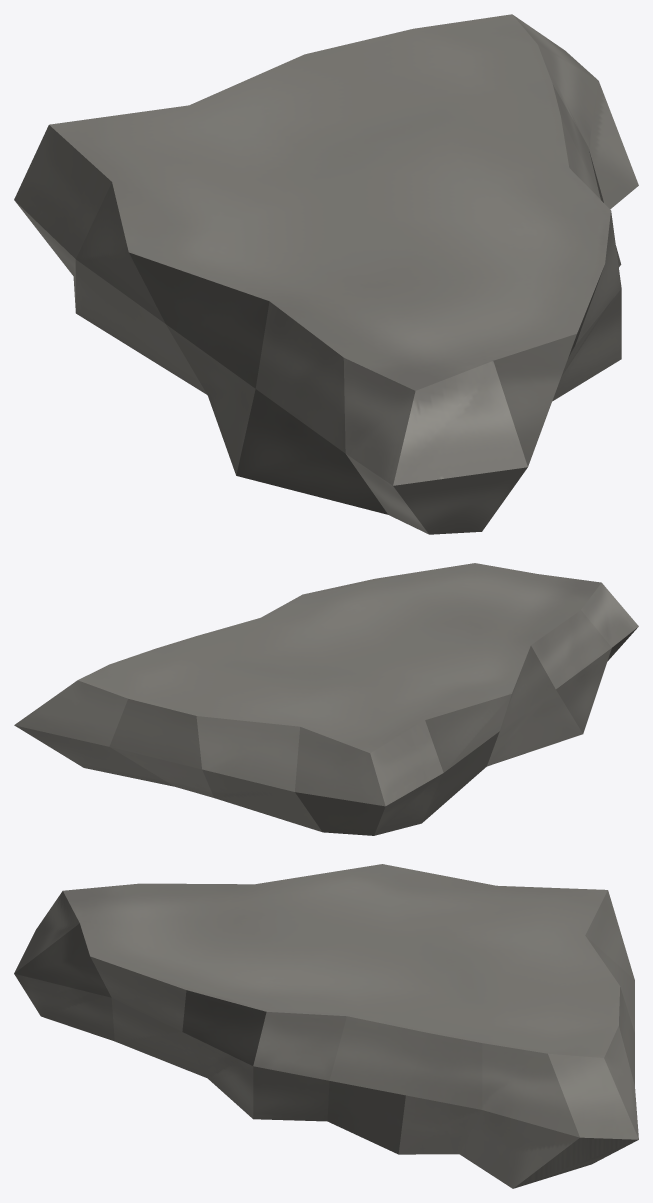
Rendered from floating_path_3.fbx.
3 renders of one model, top to bottom at view 1: azimuth 30°, elevation 25°; view 2: azimuth 150°, elevation 25°; view 3: azimuth 270°, elevation 25°, orthographic. The views are drawn at different scales.
Visible parts, largest first — view 1: floating_path_3; view 2: floating_path_3; view 3: floating_path_3.
Part boxes in pixels (x1,y1,x2,y2): floating_path_3: (14, 14, 638, 534); floating_path_3: (14, 563, 638, 835); floating_path_3: (14, 864, 638, 1188).
Size of the model in its own units: 210 by 47.02 by 249.
